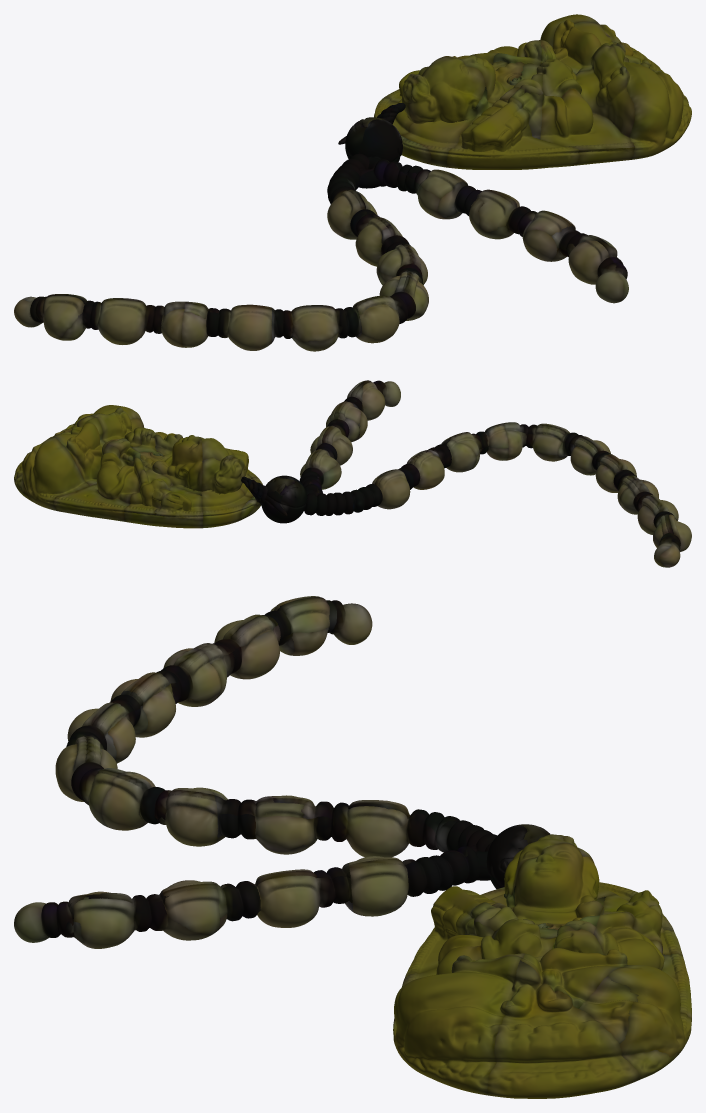
Rendered from buddha-pendant.glb.
The picture shows the model from 3 angles, top to bottom: view 1: azimuth 30°, elevation 25°; view 2: azimuth 150°, elevation 25°; view 3: azimuth 270°, elevation 25°; orthographic projection. The views are drawn at different scales.
Parts seen in each view (by area): view 1: tripo_node_4bdec264-b93b-4b6e-8689-603e5d6d990b; view 2: tripo_node_4bdec264-b93b-4b6e-8689-603e5d6d990b; view 3: tripo_node_4bdec264-b93b-4b6e-8689-603e5d6d990b.
Boxes of the visible parts, x1,y1,x2,y2 form: tripo_node_4bdec264-b93b-4b6e-8689-603e5d6d990b: (14,14,691,351); tripo_node_4bdec264-b93b-4b6e-8689-603e5d6d990b: (14,380,691,567); tripo_node_4bdec264-b93b-4b6e-8689-603e5d6d990b: (14,596,691,1098).
Size of the model in its own units: 0.9802 by 0.1189 by 0.5953.
1 material, 1 textured.
